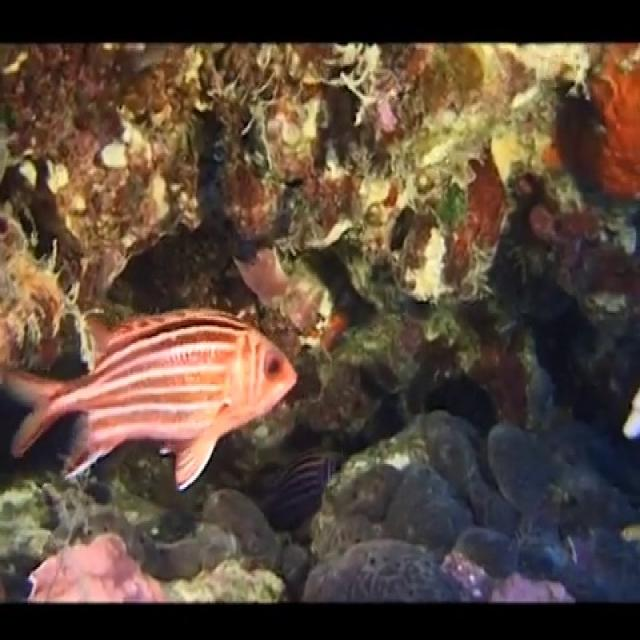Asker Baligi: (0, 304, 299, 492)
